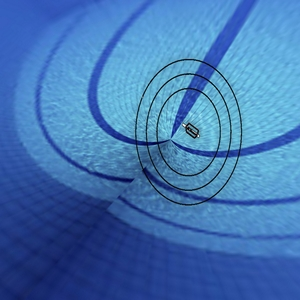circle: (129, 50, 248, 211)
submarine: (173, 118, 206, 154)
